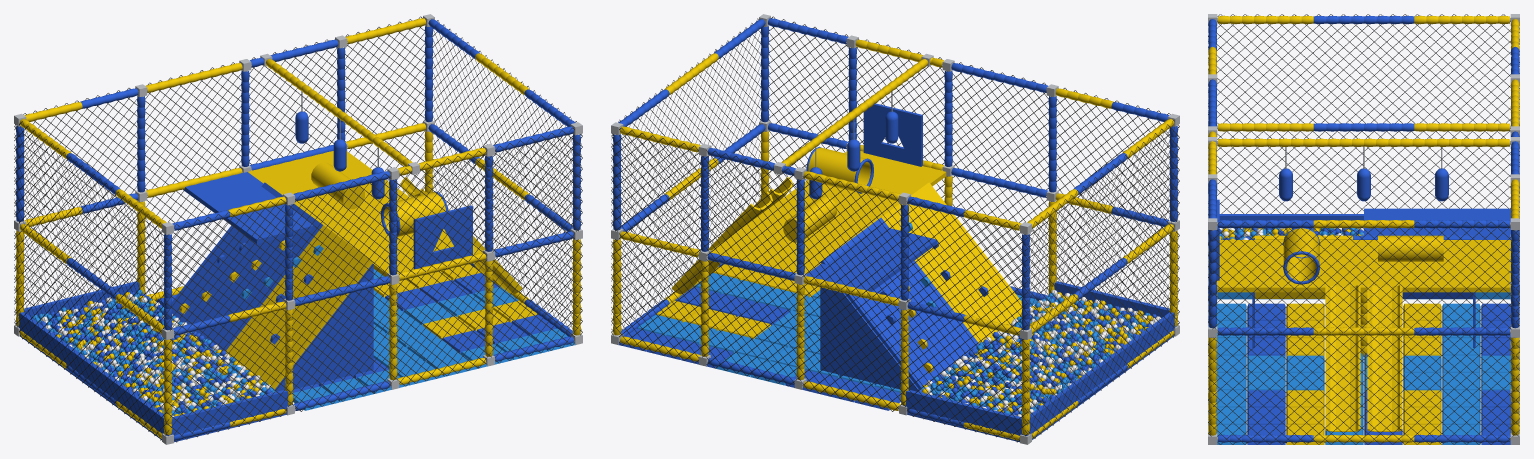
Rendered from web.glb.
The picture shows the model from 3 angles, left to right: view 1: azimuth 30°, elevation 25°; view 2: azimuth 150°, elevation 25°; view 3: azimuth 270°, elevation 25°; orthographic projection. The views are drawn at different scales.
Parts seen in each view (by area): view 1: rede, isotubo, plataforma, piso, bolinhas, acolchoado, metal, plastico; view 2: rede, isotubo, plataforma, piso, bolinhas, acolchoado, metal, plastico; view 3: piso, rede, isotubo, plataforma, plastico, acolchoado, metal, bolinhas.
Boxes of the visible parts, box(x1,y1,x2,y2) form: rede: box(14, 16, 582, 442); isotubo: box(16, 18, 580, 440); plataforma: box(171, 151, 484, 391); piso: box(156, 264, 574, 410); bolinhas: box(32, 289, 275, 416); acolchoado: box(16, 111, 447, 442); metal: box(14, 14, 582, 444); plastico: box(179, 177, 522, 344); rede: box(611, 16, 1179, 442); isotubo: box(613, 18, 1177, 440); plataforma: box(709, 103, 1022, 391); piso: box(619, 264, 1037, 410); bolinhas: box(917, 290, 1161, 416); acolchoado: box(783, 111, 1177, 442); metal: box(611, 14, 1179, 444); plastico: box(671, 177, 988, 373); piso: box(1208, 303, 1519, 444); rede: box(1208, 14, 1519, 444); isotubo: box(1208, 15, 1519, 443); plataforma: box(1216, 199, 1511, 347); plastico: box(1325, 284, 1402, 431); acolchoado: box(1217, 168, 1510, 299); metal: box(1208, 14, 1519, 444); bolinhas: box(1219, 228, 1363, 239).
Bounding box in the file's own units: 6 × 3 × 3.8.
8 materials, 8 textured.
